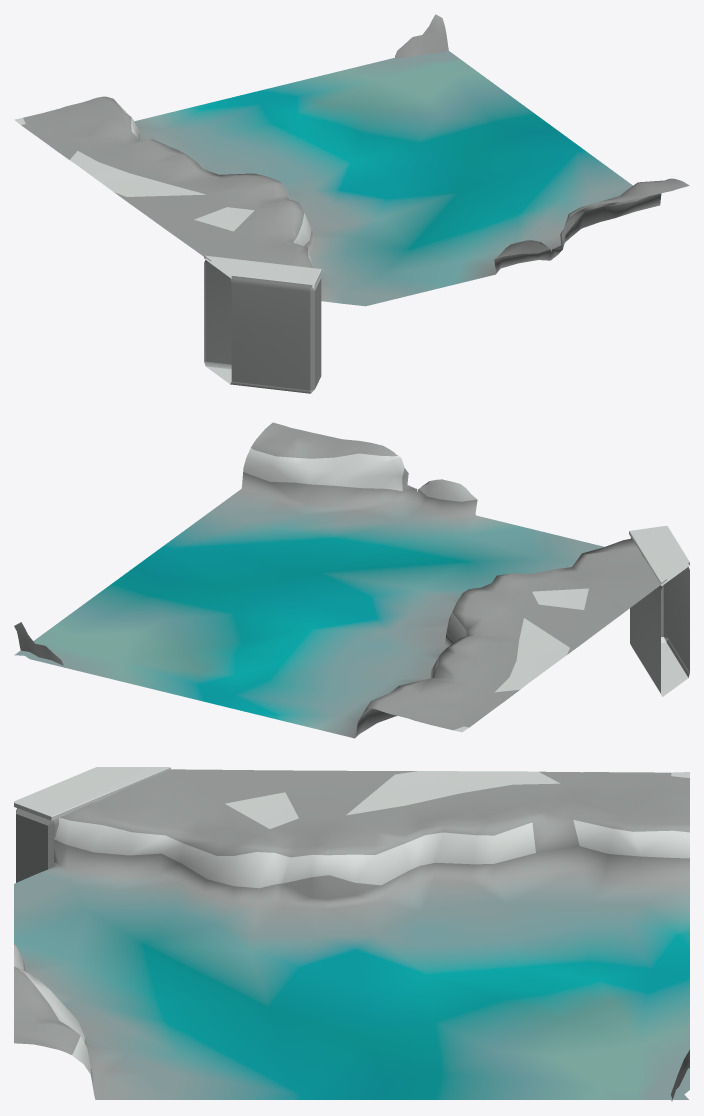
The picture shows the model from 3 angles, top to bottom: view 1: azimuth 30°, elevation 25°; view 2: azimuth 150°, elevation 25°; view 3: azimuth 270°, elevation 25°; orthographic projection. The views are drawn at different scales.
Visible parts, largest first — view 1: G:\FFXIV-MapTools\exports\n5f1\bg\ex4\01_nvt_n5\fld\n5f1\bgp (×10); view 2: G:\FFXIV-MapTools\exports\n5f1\bg\ex4\01_nvt_n5\fld\n5f1\bgp (×11); view 3: G:\FFXIV-MapTools\exports\n5f1\bg\ex4\01_nvt_n5\fld\n5f1\bgp (×11).
Boxes of the visible parts, x1,y1,x2,y2 form: G:\FFXIV-MapTools\exports\n5f1\bg\ex4\01_nvt_n5\fld\n5f1\bgp (×10): (14,14,689,390); G:\FFXIV-MapTools\exports\n5f1\bg\ex4\01_nvt_n5\fld\n5f1\bgp (×11): (14,422,689,738); G:\FFXIV-MapTools\exports\n5f1\bg\ex4\01_nvt_n5\fld\n5f1\bgp (×11): (14,767,689,1100).
Bounding box in the file's own units: 128 × 34.39 × 128.
